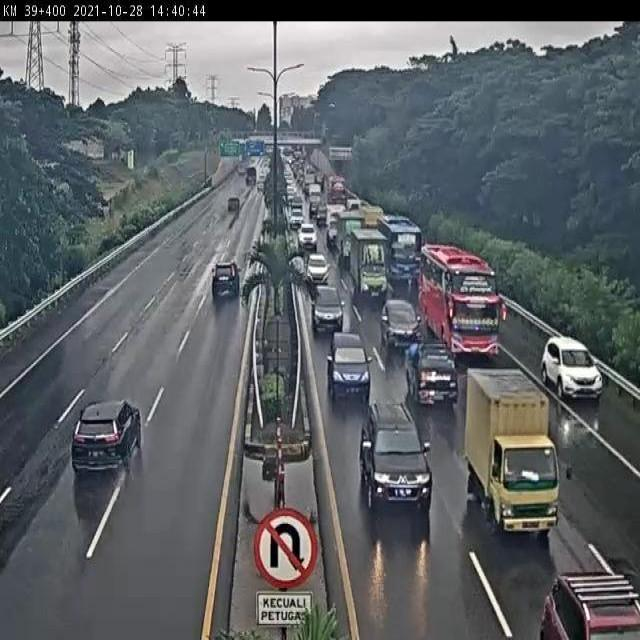big bus: (420, 244, 502, 361), (374, 215, 420, 282)
car: (359, 400, 433, 513), (540, 335, 606, 405), (404, 338, 461, 406), (325, 329, 372, 403), (380, 299, 423, 352), (309, 280, 344, 329), (210, 258, 240, 294), (304, 250, 331, 286)
mid truck: (70, 399, 142, 476), (347, 228, 388, 300)
truck-m-: (465, 364, 562, 539)
